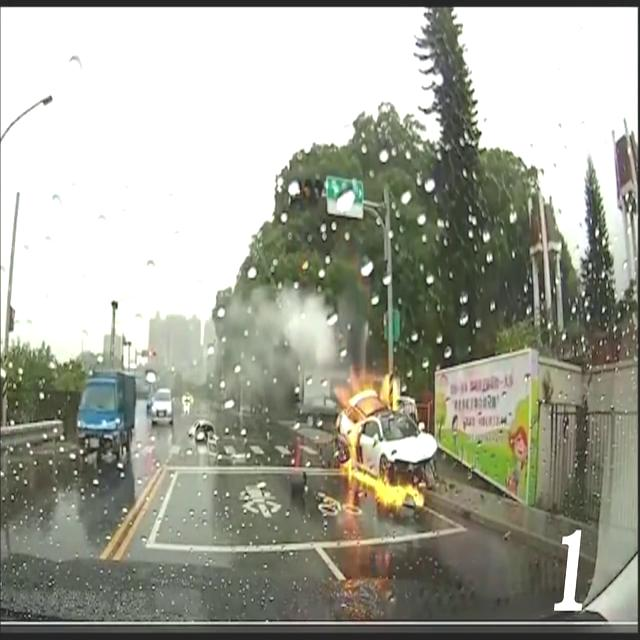accident: (332, 363, 442, 513)
